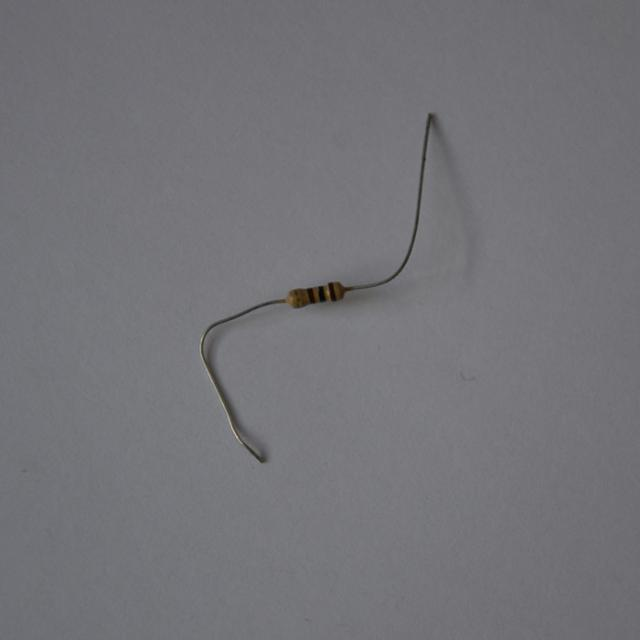black: (318, 286, 325, 302)
brown: (306, 287, 315, 303), (327, 283, 335, 299)
gold: (293, 290, 301, 306)
resistor: (282, 273, 354, 312)
